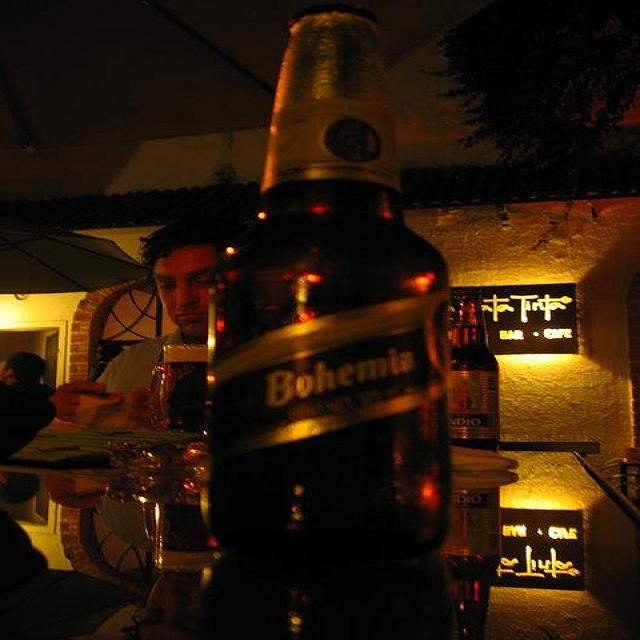Bottle: (224, 13, 496, 633)
People: (89, 193, 265, 372), (0, 345, 62, 462)
